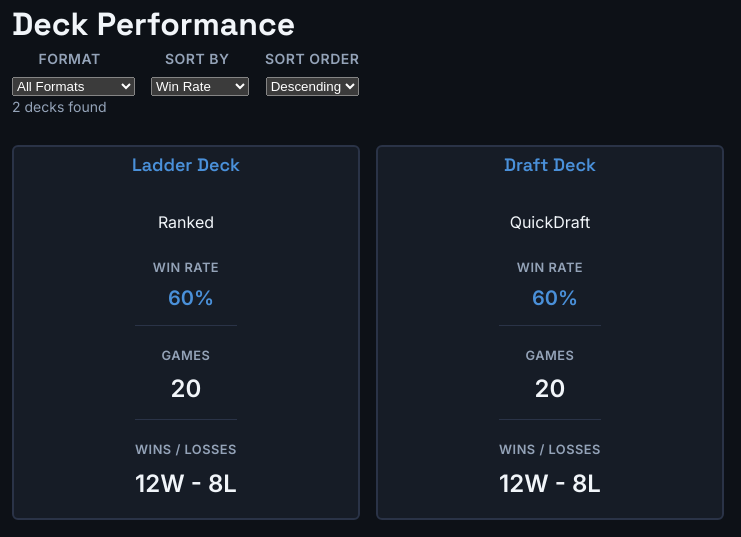
Test: DeckPerformance › Filters › client-side format filter shows only matching decks
The image size is (741, 537).
Expected: the heading "Ladder Deck" is shown, [132,151,240,178]
Expected: the heading "Draft Deck" is shown, [504,151,596,178]
Select "Limited" in the dropdown below "Format" at (74, 86), box [12,77,135,96]
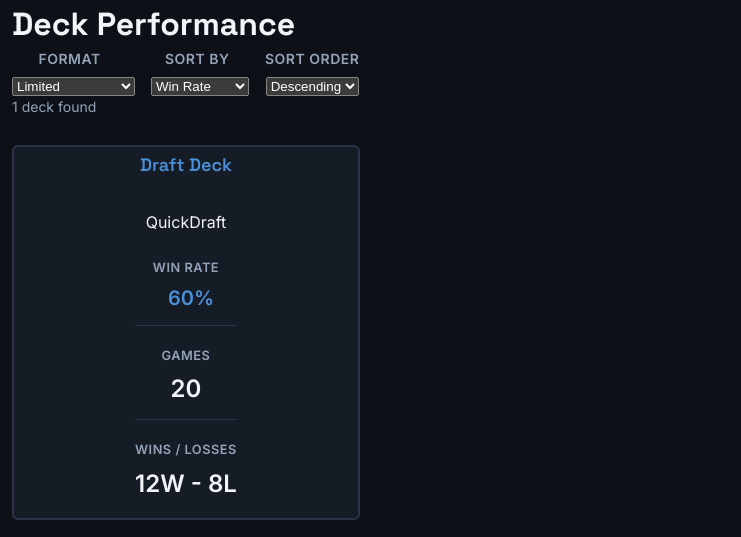
Expected: the heading "Draft Deck" is shown, [140,151,232,178]
Expected: the heading "Ladder Deck" is gone
